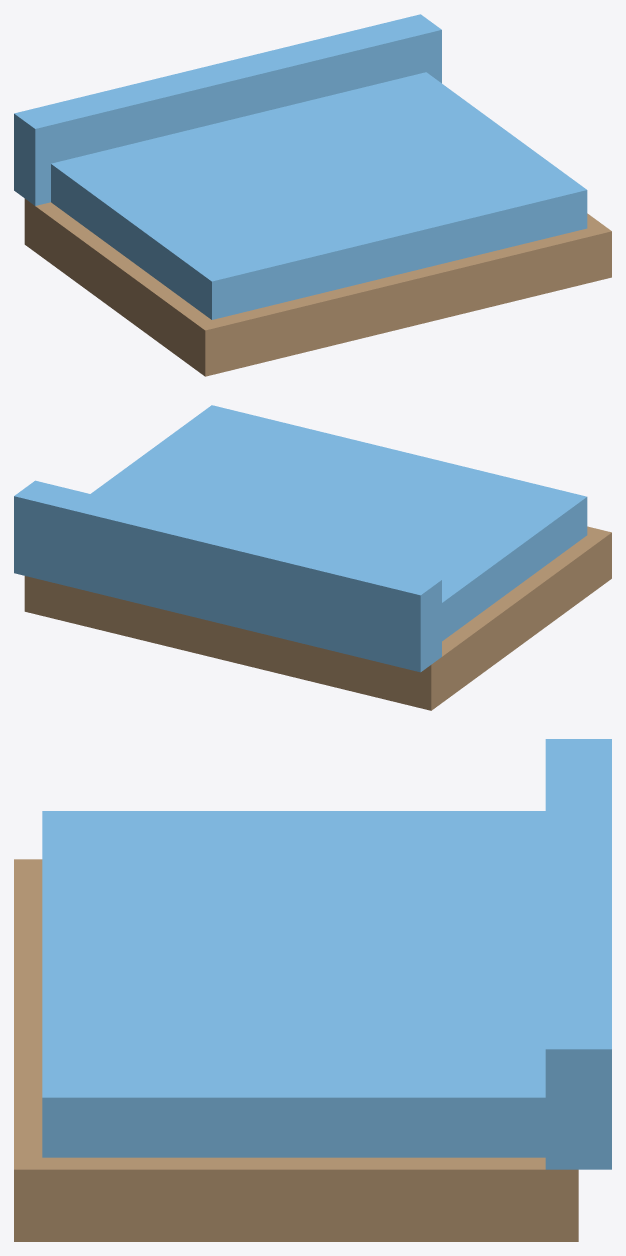
Rendered from Prop_Pet_AMF_Bed_V12.glb.
The picture shows the model from 3 angles, top to bottom: view 1: azimuth 30°, elevation 25°; view 2: azimuth 150°, elevation 25°; view 3: azimuth 270°, elevation 25°; orthographic projection. The views are drawn at different scales.
Visible parts, largest first — view 1: Prop_Pet_AMF_Bed_V12; view 2: Prop_Pet_AMF_Bed_V12; view 3: Prop_Pet_AMF_Bed_V12.
Part boxes in pixels (bbox=[...]): Prop_Pet_AMF_Bed_V12: bbox=[14, 14, 611, 376]; Prop_Pet_AMF_Bed_V12: bbox=[14, 405, 611, 710]; Prop_Pet_AMF_Bed_V12: bbox=[14, 739, 611, 1241].
Bounding box in the file's own units: 1.11 × 0.32 × 0.9.
